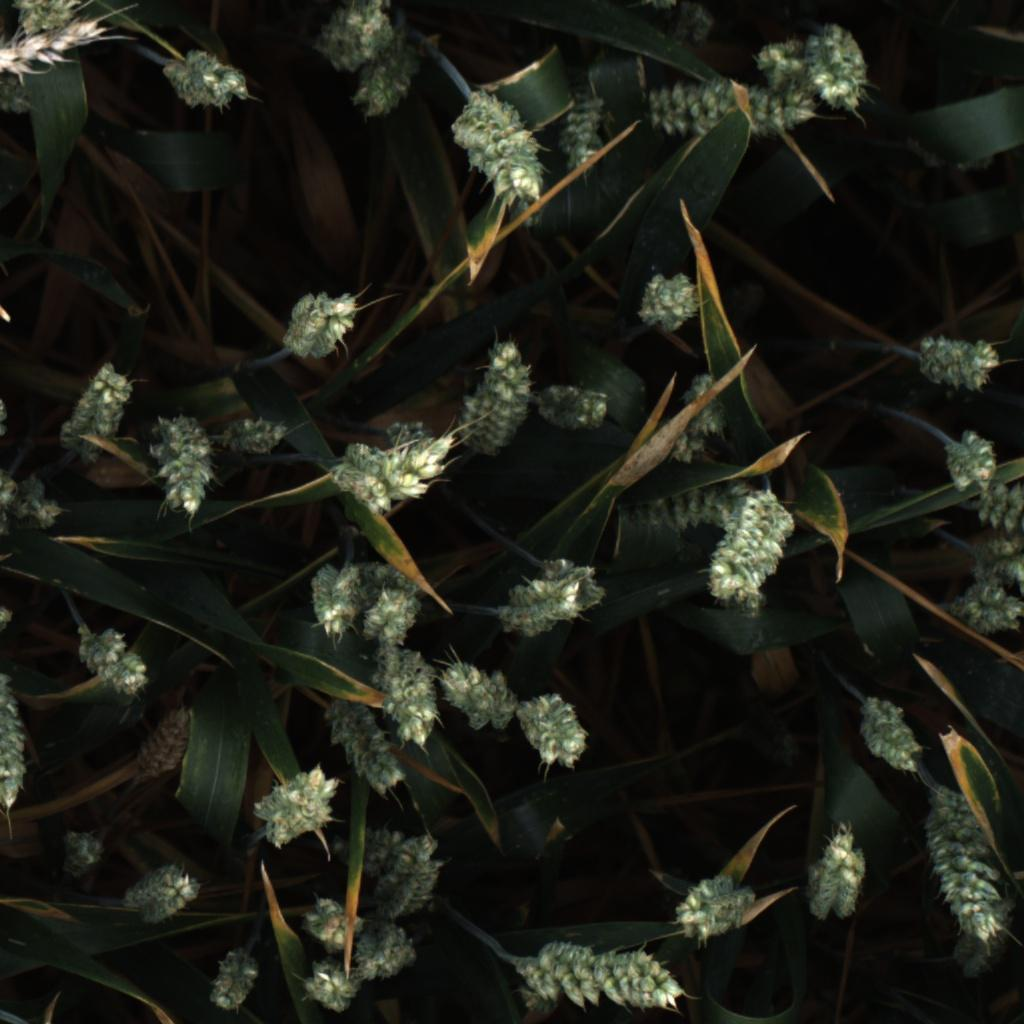0-0: (506, 935, 688, 1014), (917, 781, 1005, 943), (445, 83, 548, 210), (328, 430, 460, 517), (450, 329, 535, 462), (648, 75, 824, 139), (705, 488, 800, 606), (322, 689, 408, 797), (57, 354, 139, 466), (249, 758, 343, 853), (344, 38, 429, 131), (371, 646, 447, 749), (639, 481, 773, 539), (0, 15, 115, 82), (800, 823, 876, 924), (150, 413, 220, 520), (439, 650, 520, 739), (496, 565, 593, 639), (518, 685, 597, 774), (282, 284, 365, 368), (372, 829, 445, 923), (854, 689, 929, 777), (669, 872, 760, 942), (69, 622, 158, 692), (163, 43, 248, 115), (911, 329, 1008, 392), (314, 0, 401, 70), (117, 862, 207, 929), (806, 19, 868, 116), (721, 511, 771, 621), (301, 560, 363, 648), (126, 706, 196, 783), (550, 85, 611, 173), (530, 374, 614, 436), (354, 581, 427, 652), (0, 665, 35, 813), (532, 555, 610, 618), (632, 266, 703, 335), (353, 558, 426, 624), (743, 28, 811, 97), (354, 922, 424, 988), (965, 477, 1024, 555), (295, 949, 360, 1019), (204, 943, 265, 1017), (941, 425, 1003, 496), (297, 886, 363, 951), (948, 579, 1024, 635), (216, 406, 295, 459), (7, 470, 63, 540), (969, 537, 1024, 607), (679, 370, 731, 444), (6, 0, 88, 43), (53, 822, 109, 883), (382, 417, 438, 463), (517, 975, 564, 1020), (665, 427, 713, 468), (674, 0, 717, 45), (0, 84, 34, 125), (0, 389, 19, 448), (0, 467, 19, 511), (0, 603, 17, 639)
